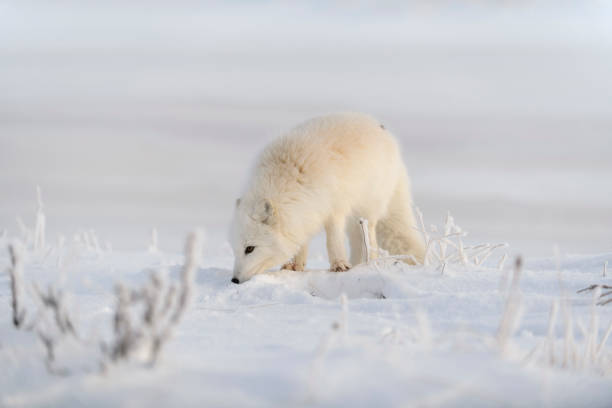arcticfox: (225, 209, 273, 293)
